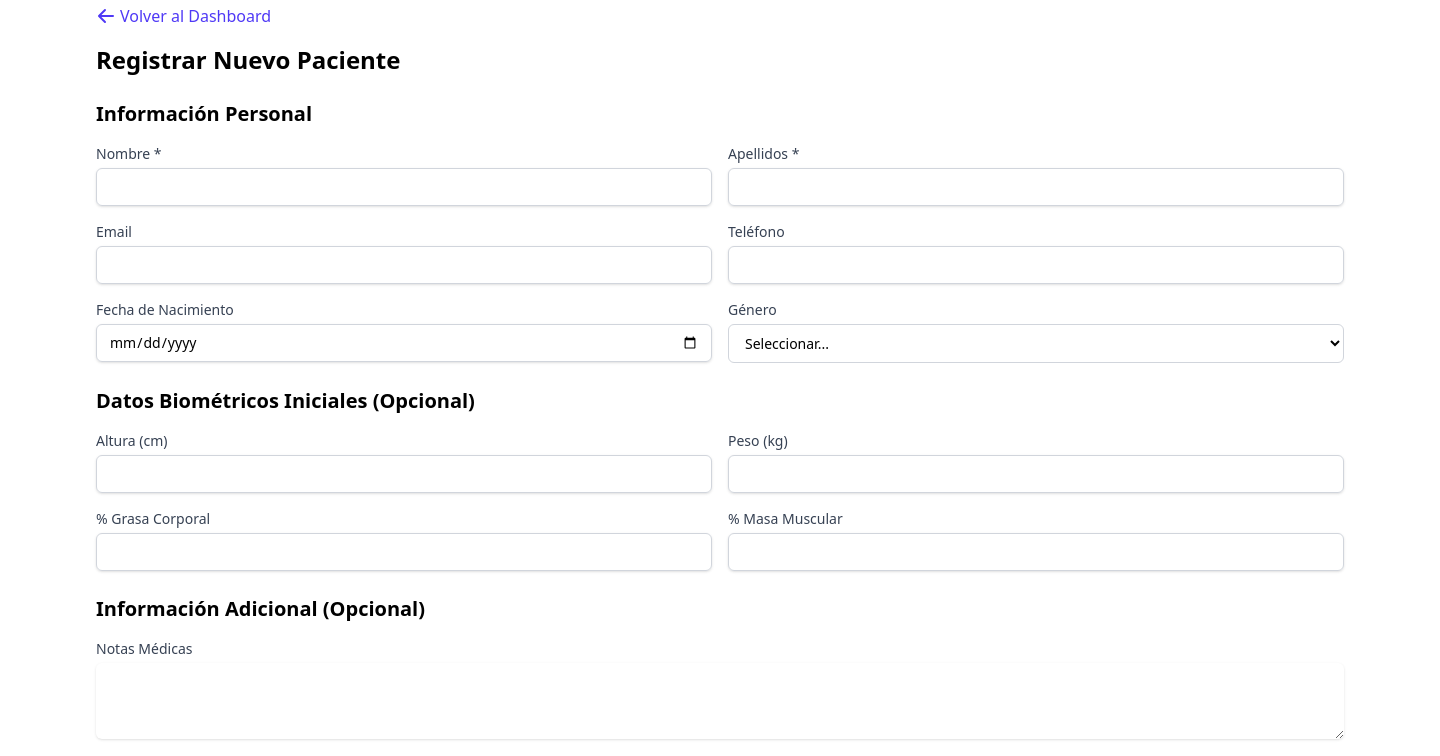
Test case: NewPatientPage › debería mostrar un error de validación si el formato del teléfono es inválido
This screenshot has width=1440, height=756.
# Ingresar un formato de teléfono inválido (ej. con caracteres no permitidos)
In the field labelled "Teléfono": point(1036, 265) left=728, top=246, right=1344, bottom=284, type "abc-123-xyz"
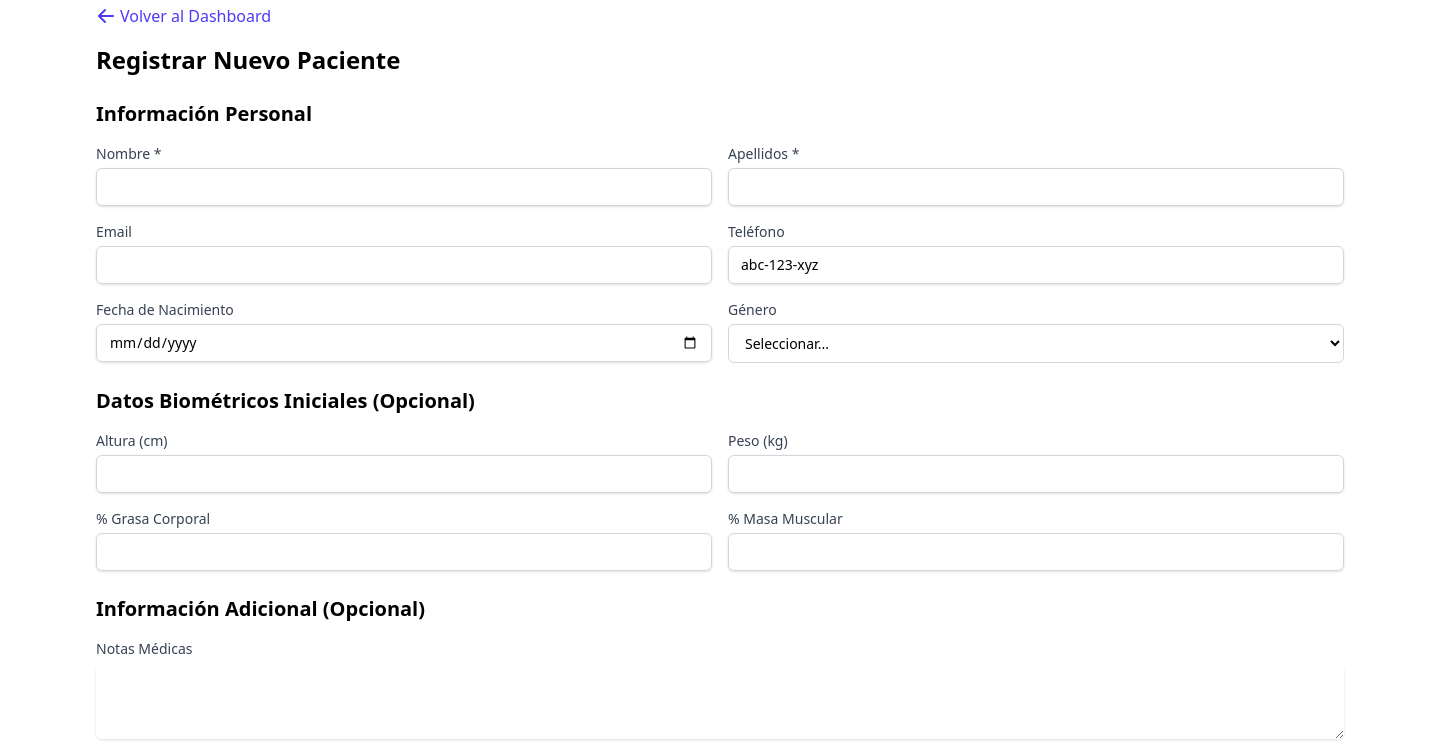
# Asegurarse de que los campos obligatorios tengan valor para que solo falle la validación del teléfono
In the field labelled "Nombre *": point(404, 187) left=96, top=168, right=712, bottom=206, type "Nombre Valido"
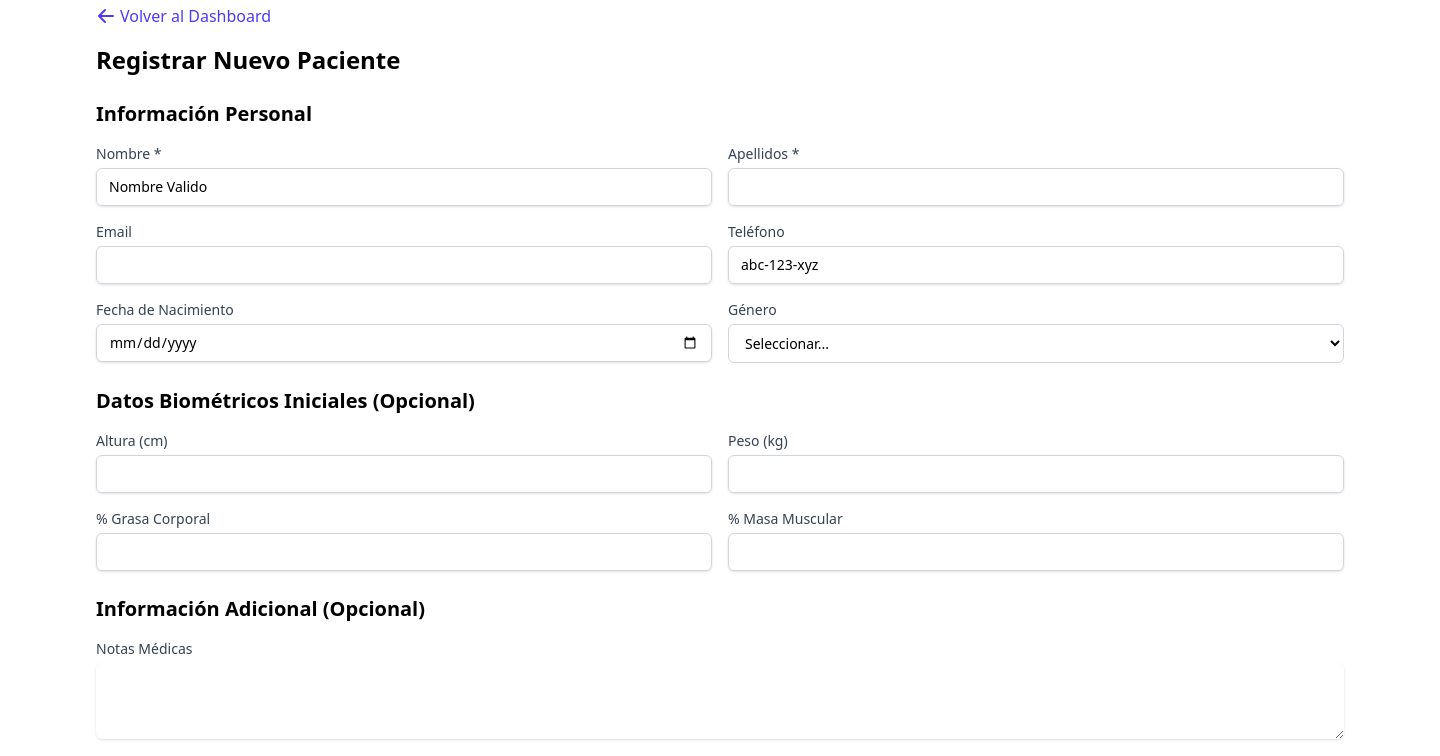
In the field labelled "Apellidos *": point(1036, 187) left=728, top=168, right=1344, bottom=206, type "Apellido Valido"
(page scrolled)
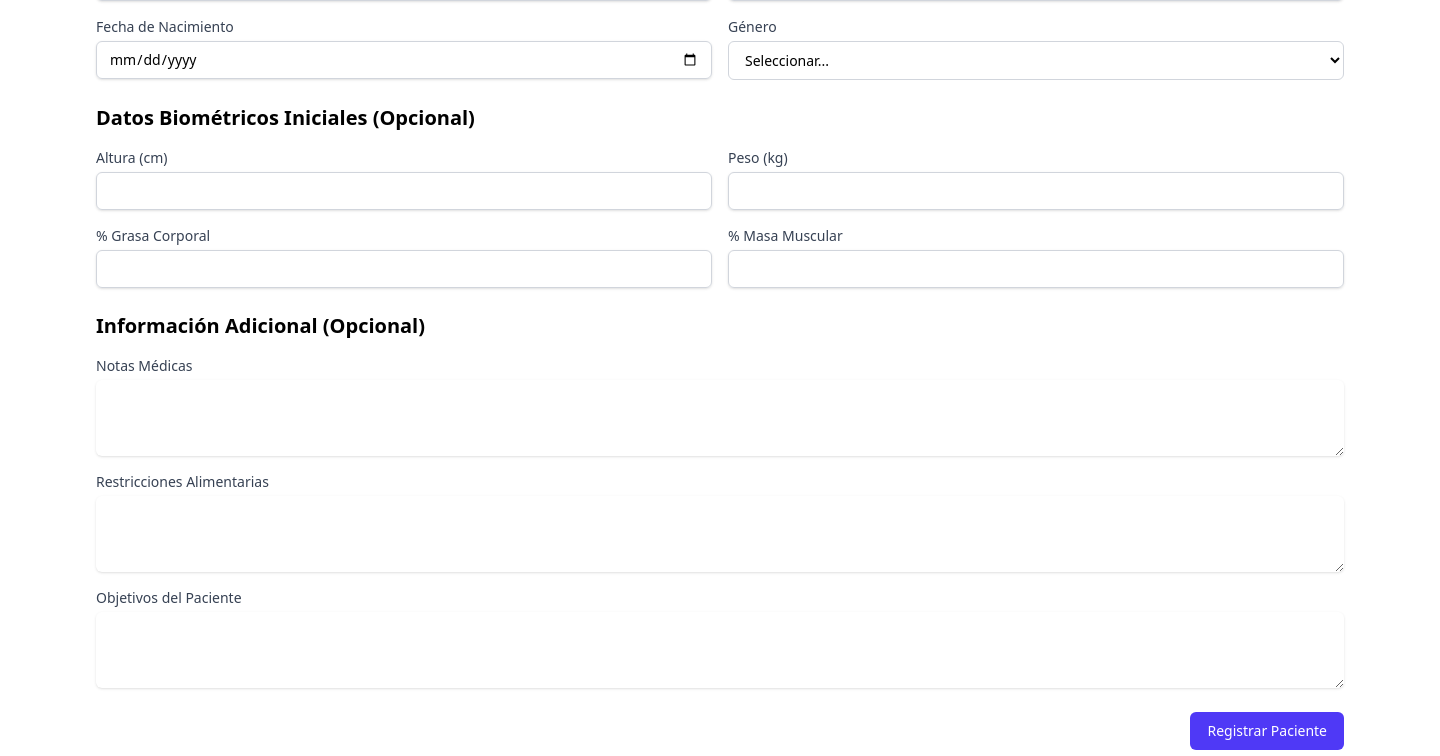
Click the button "Registrar Paciente": point(1267, 731) left=1190, top=712, right=1344, bottom=750
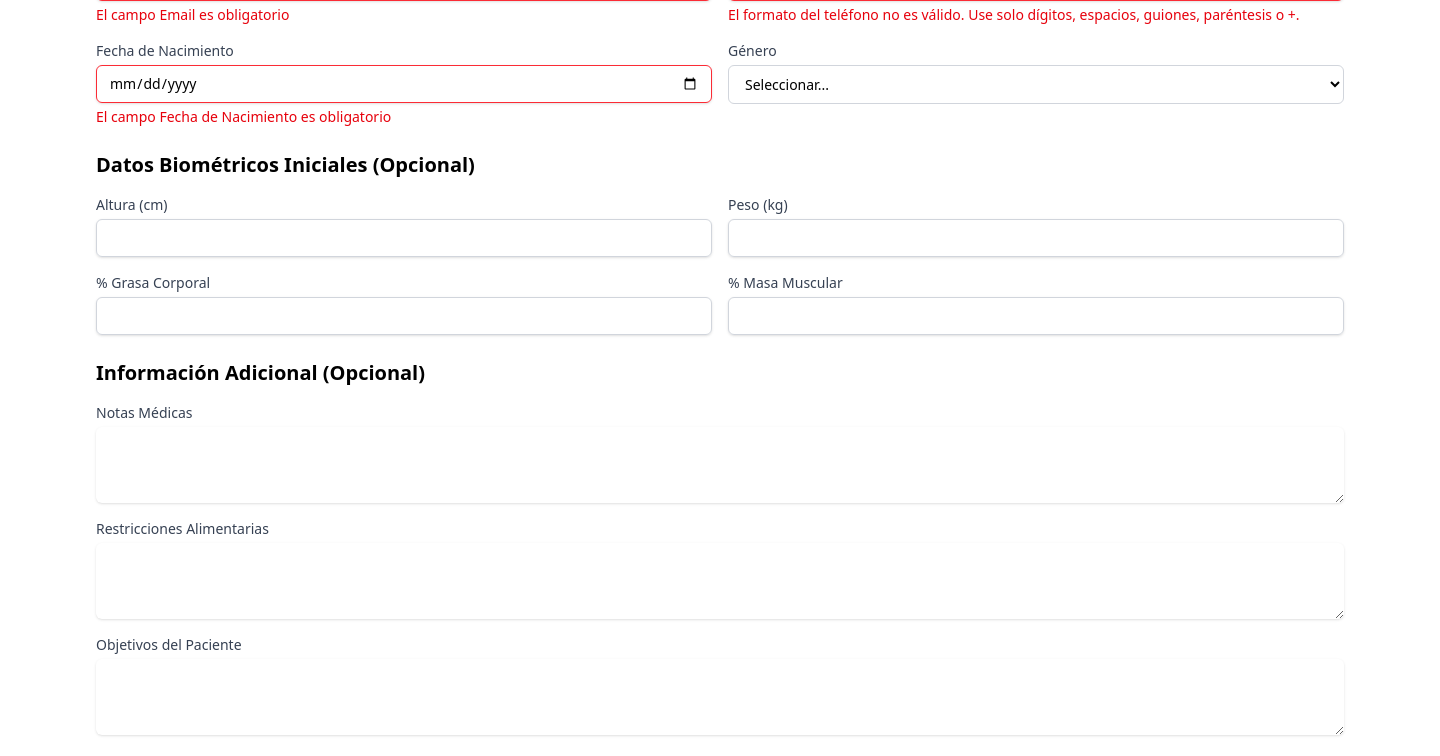
Now the text with test id "error-phone" is shown, box left=728, top=5, right=1344, bottom=25
Now the text with test id "error-phone" shows "El formato del teléfono no es válido.", box left=728, top=5, right=1300, bottom=24
